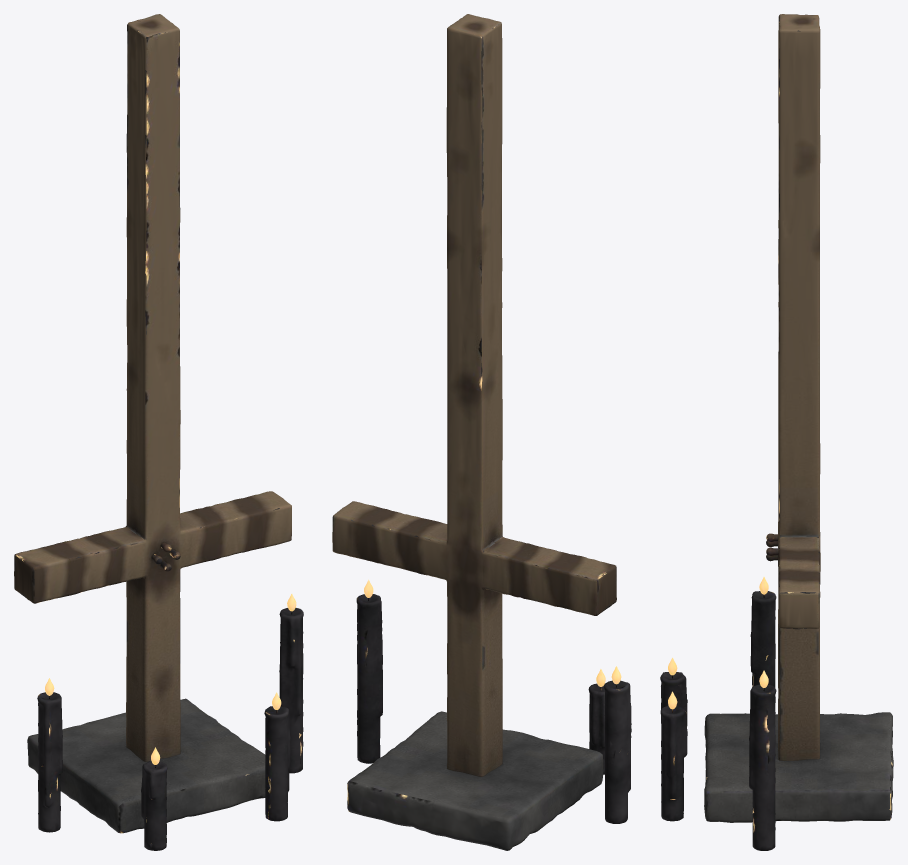
File: inverted_cross.glb
3 views of the same model, side by side, from view 1: azimuth 30°, elevation 25°; view 2: azimuth 150°, elevation 25°; view 3: azimuth 270°, elevation 25° (orthographic). The views are drawn at different scales.
Visible parts, largest first — view 1: Cross_Timber, Cross_Base, Cross_Wax; view 2: Cross_Timber, Cross_Base, Cross_Wax; view 3: Cross_Timber, Cross_Base, Cross_Wax, Cross_Flames.
Part boxes in pixels (x1,y1,x2,y2): Cross_Timber: [14, 14, 291, 761]; Cross_Base: [27, 698, 265, 833]; Cross_Wax: [37, 608, 303, 850]; Cross_Timber: [332, 14, 616, 776]; Cross_Base: [347, 711, 603, 850]; Cross_Wax: [356, 594, 631, 823]; Cross_Timber: [778, 14, 820, 760]; Cross_Base: [704, 712, 893, 822]; Cross_Wax: [660, 591, 776, 850]; Cross_Flames: [668, 577, 768, 709].
Size of the model in its own units: 0.8696 by 2.4 by 0.6629.
1 material, 1 textured.
